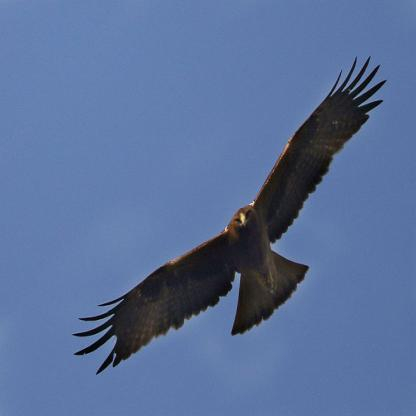Burung: (72, 51, 388, 379)
